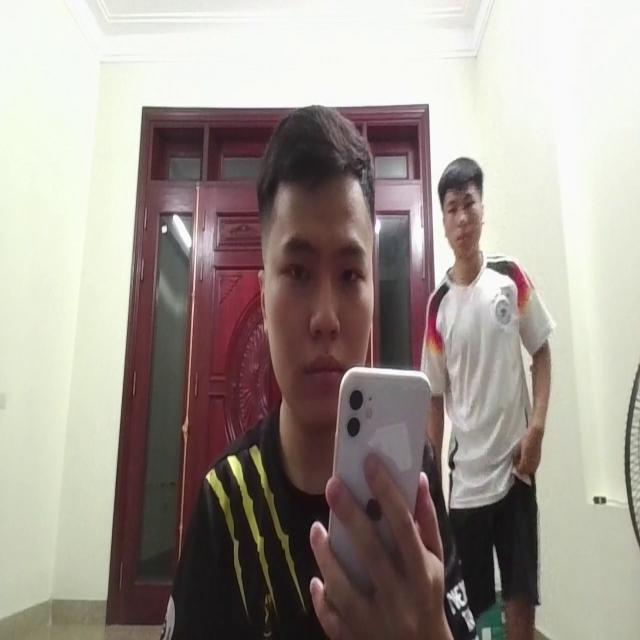extra_person: (418, 141, 562, 640)
phone: (321, 345, 424, 616)
student: (176, 104, 436, 630)
